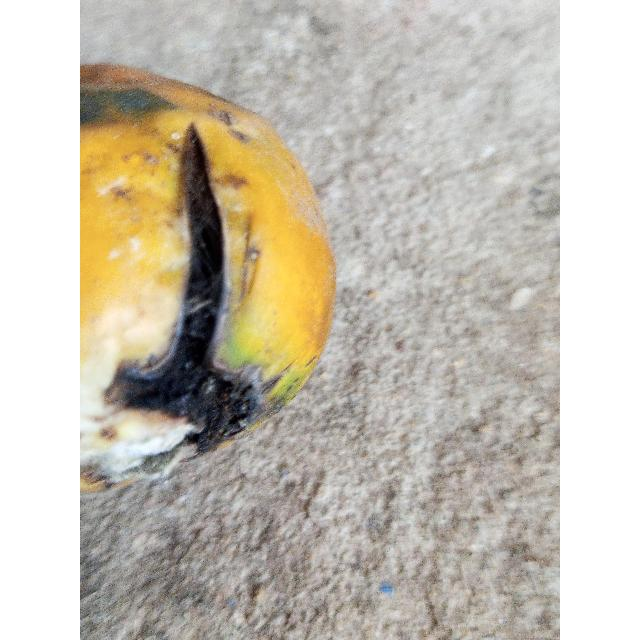damaged: (80, 64, 335, 492)
